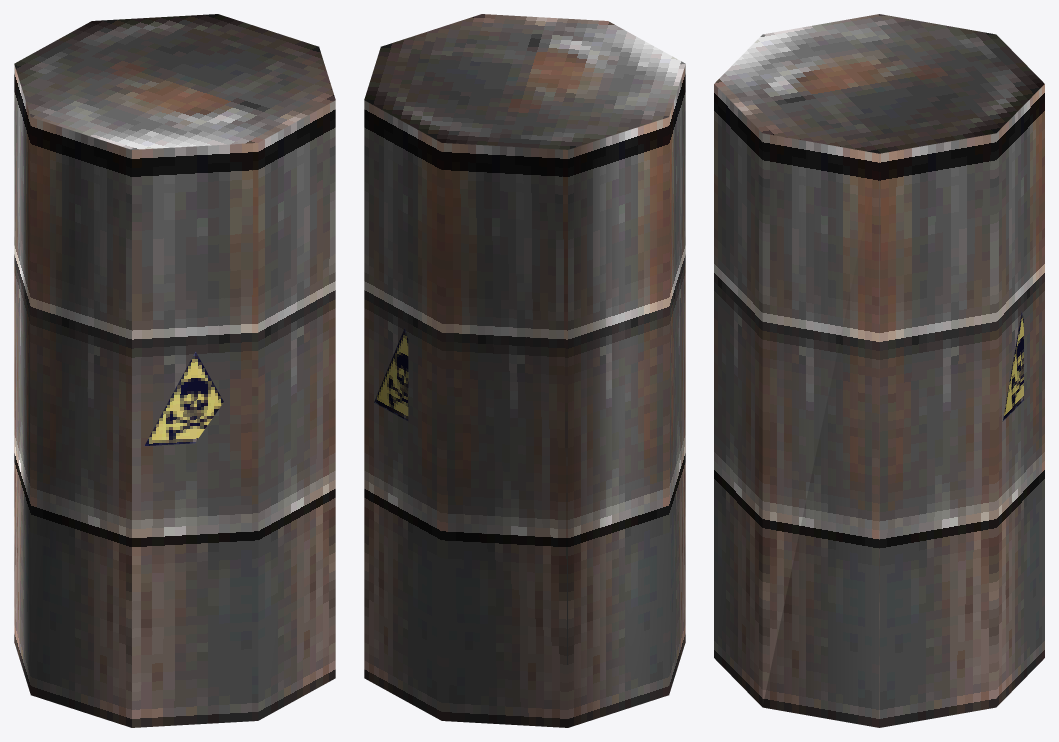
Rendered from Poil_drum6Z.obj.
3 views of the same model, side by side, from view 1: azimuth 30°, elevation 25°; view 2: azimuth 150°, elevation 25°; view 3: azimuth 270°, elevation 25° (orthographic).
Size of the model in its own units: 690 by 1322 by 690.
3 materials, 3 textured.
